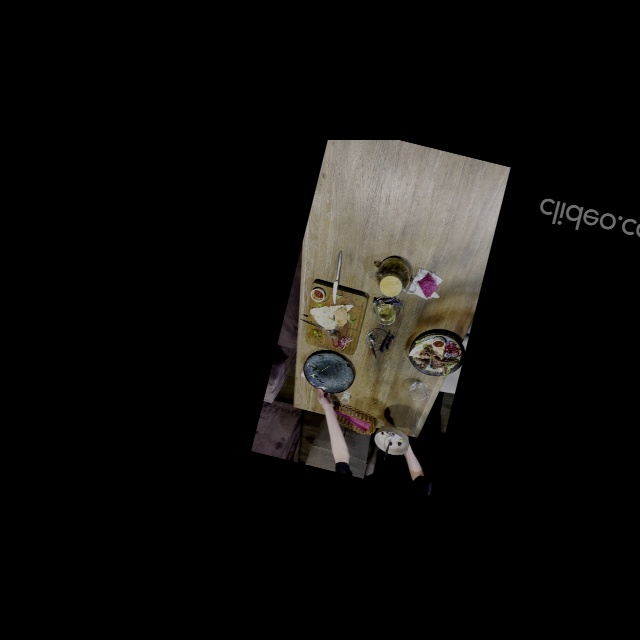графин с чаем: (365, 251, 422, 302)
закуска(пустая тарелка): (298, 281, 370, 356)
мясо(пустая тарелка): (405, 326, 470, 383)
салат(пустая тарелка): (300, 347, 360, 397)
